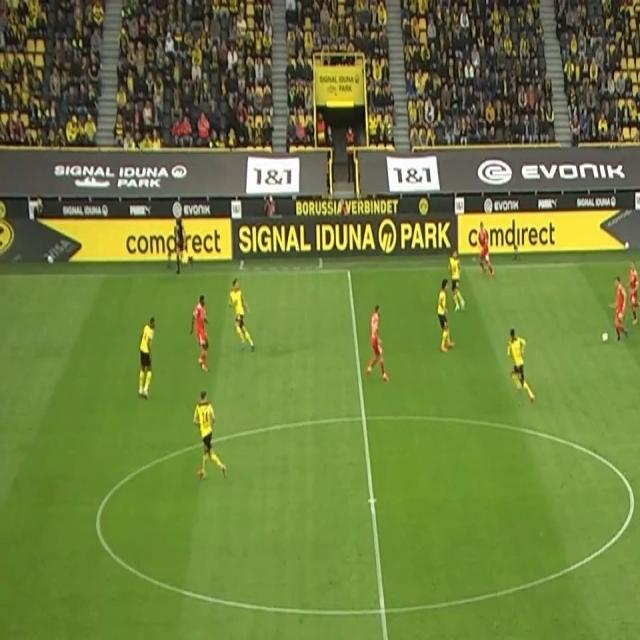ball: (602, 330, 608, 343)
